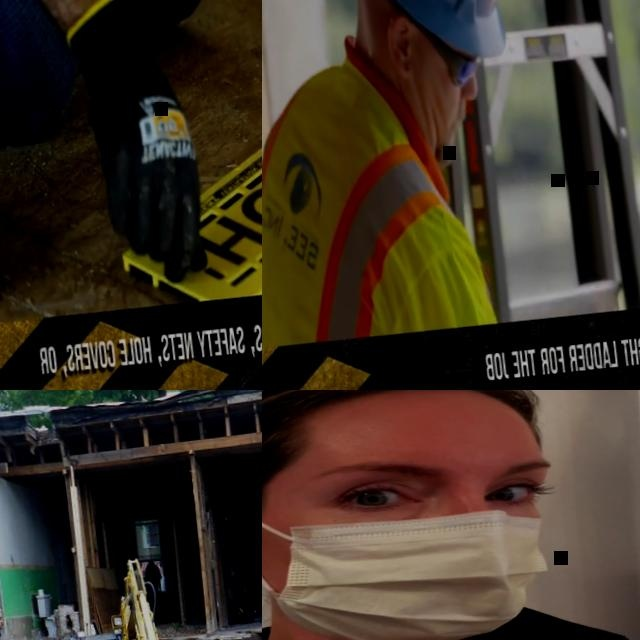Hardhat: (324, 0, 513, 67)
Mask: (262, 475, 559, 640)
NO-Hardhat: (262, 390, 534, 464)
NO-Mask: (402, 71, 465, 171)
Person: (262, 0, 544, 349), (262, 390, 640, 640), (0, 0, 262, 300), (141, 557, 164, 608)
Safety Vest: (262, 50, 496, 349)
machinery: (0, 552, 230, 640)
